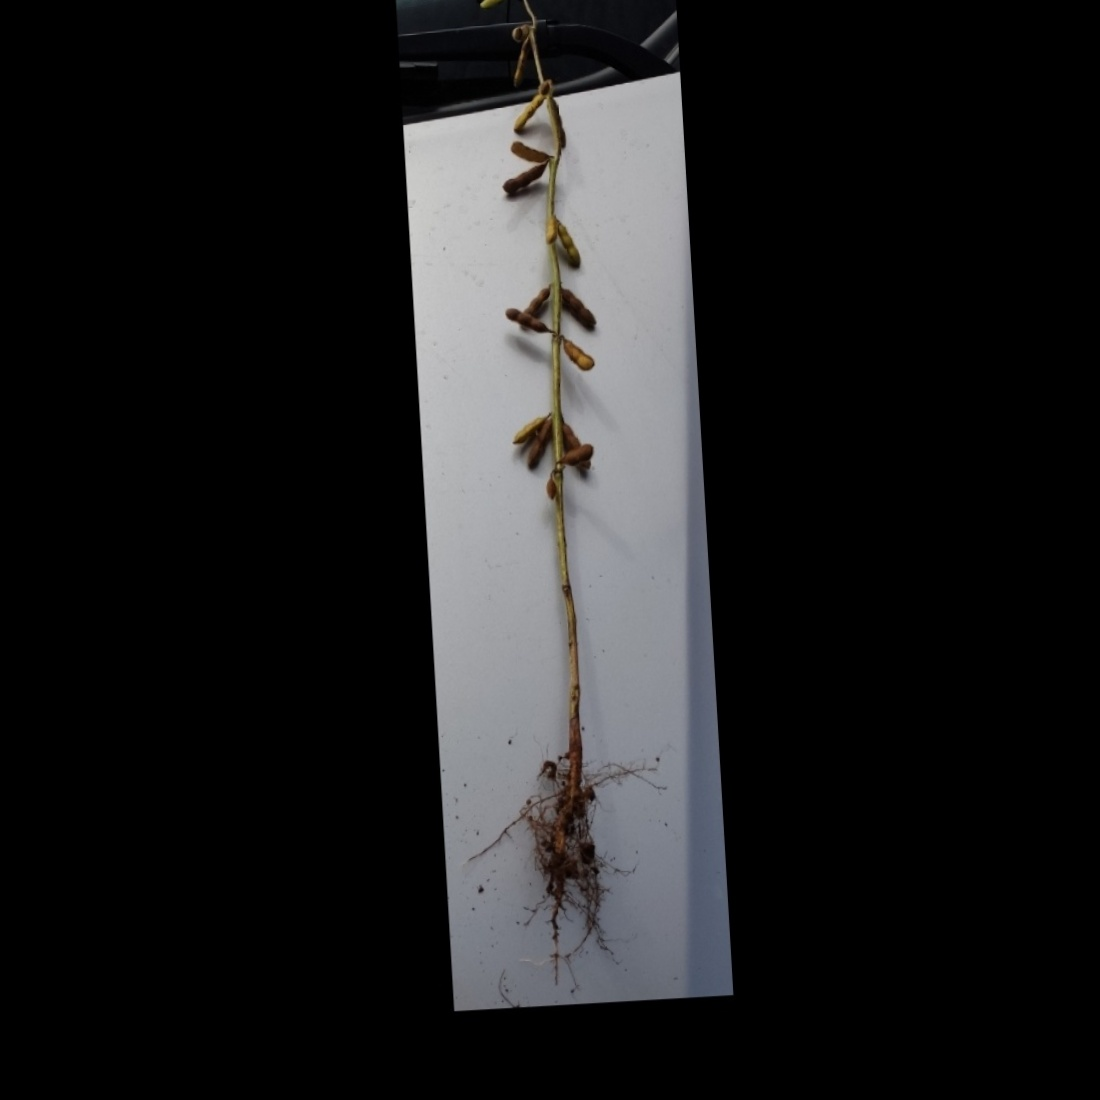pod: (509, 87, 555, 137), (497, 159, 555, 197), (557, 281, 599, 330), (521, 416, 557, 473), (552, 216, 585, 275), (502, 301, 554, 338), (508, 33, 539, 90), (557, 336, 599, 374), (508, 413, 554, 446), (477, 0, 521, 11)
soy: (428, 0, 646, 923)
